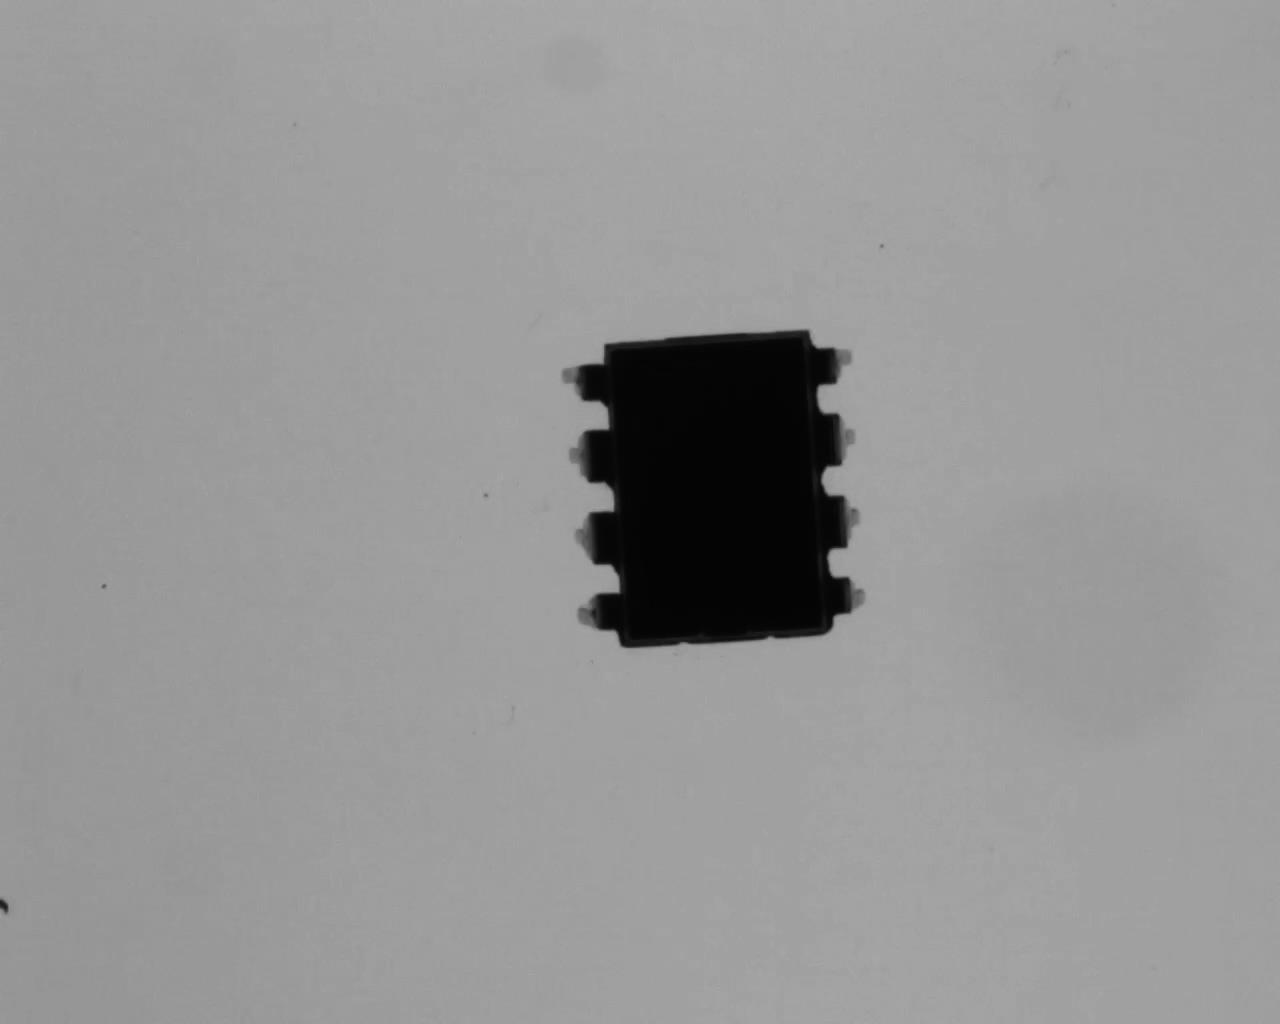Leg: (562, 424, 621, 486), (571, 502, 622, 572), (566, 583, 630, 633), (815, 409, 862, 474), (819, 489, 867, 553), (558, 358, 614, 409), (812, 339, 862, 390), (827, 571, 875, 622)
